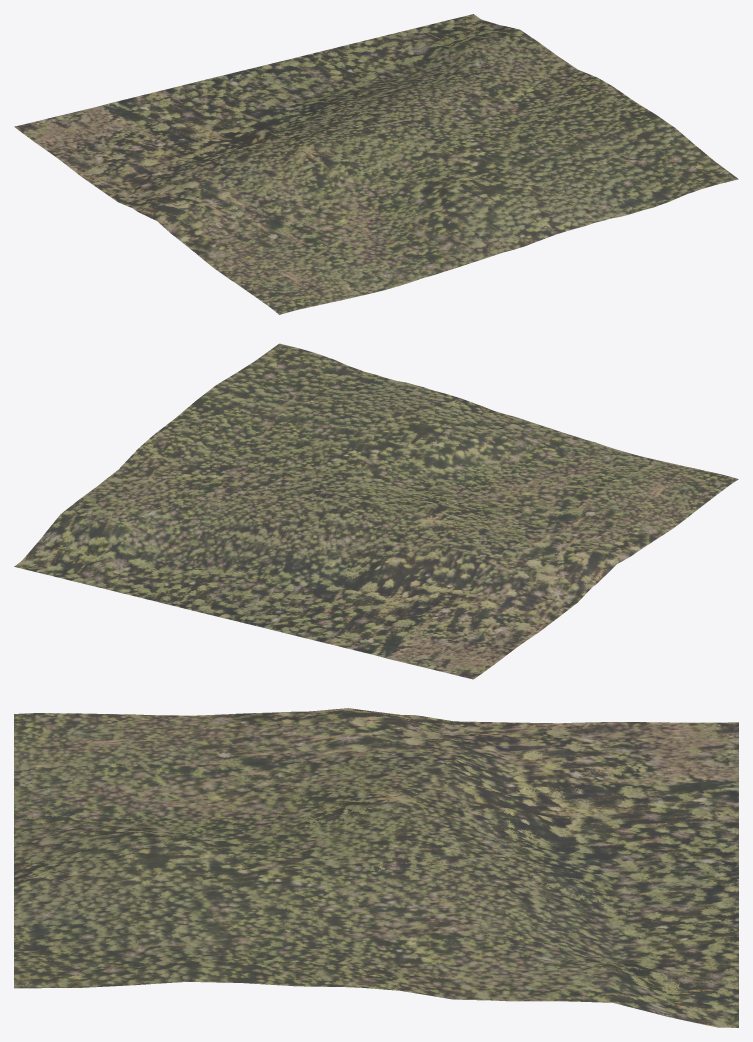
The model's file is CM_Terrain_24493326_6813855.fbx.
3 views of the same model, one above another, from view 1: azimuth 30°, elevation 25°; view 2: azimuth 150°, elevation 25°; view 3: azimuth 270°, elevation 25° (orthographic). The views are drawn at different scales.
Visible parts, largest first — view 1: CM_Terrain_24493326_6813855_LOD0; view 2: CM_Terrain_24493326_6813855_LOD0; view 3: CM_Terrain_24493326_6813855_LOD0.
Boxes of the visible parts, left/top/right/bottom form: CM_Terrain_24493326_6813855_LOD0: left=14, top=14, right=738, bottom=314; CM_Terrain_24493326_6813855_LOD0: left=14, top=343, right=738, bottom=679; CM_Terrain_24493326_6813855_LOD0: left=14, top=708, right=738, bottom=1027.
Size of what is drawn, in the model's own units: 205 by 15.01 by 205.
